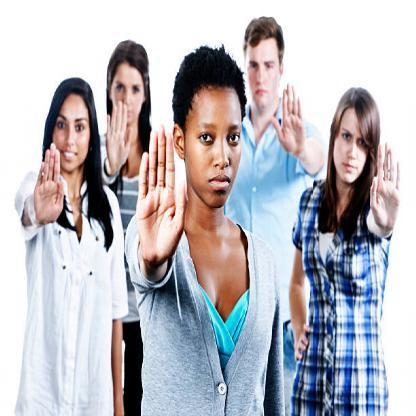stop: (136, 118, 188, 267), (368, 140, 405, 236), (31, 136, 66, 226), (270, 81, 307, 158), (104, 97, 134, 176)
